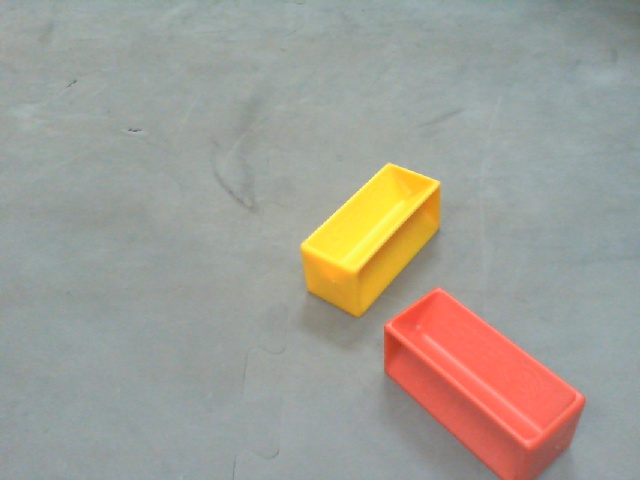RedSample: (386, 289, 586, 478)
YellowSample: (300, 162, 442, 318)
